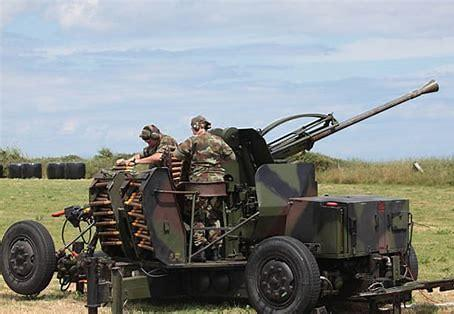MIL_SPG: (0, 80, 454, 313)
